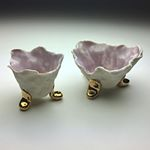cups: (69, 36, 146, 101), (2, 43, 68, 113)
